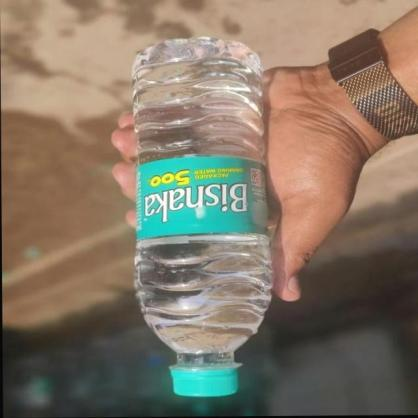bottle: (133, 37, 273, 397)
cap: (170, 365, 240, 395)
label: (136, 156, 270, 244)
